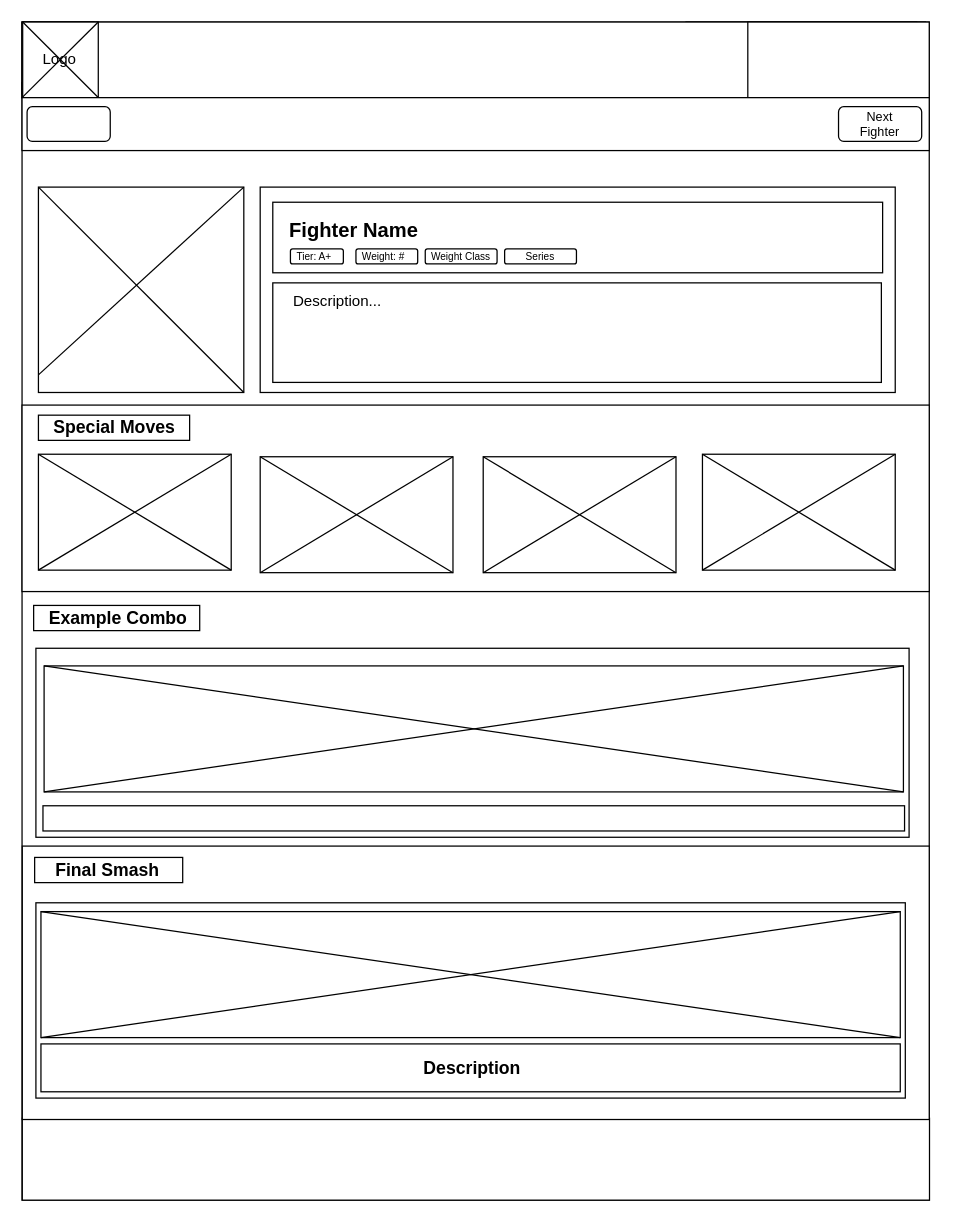
Image size: 953x1222. Some labels were removed from this diagram. The centre of each missing label's shape, as x and y in pixels:
<-- Back to Home: the point at 838,59
Combo Description: the point at 473,818
Fighter Portrait: the point at 140,289
Footer: the point at 475,1158
Previous Fighter: the point at 68,123
